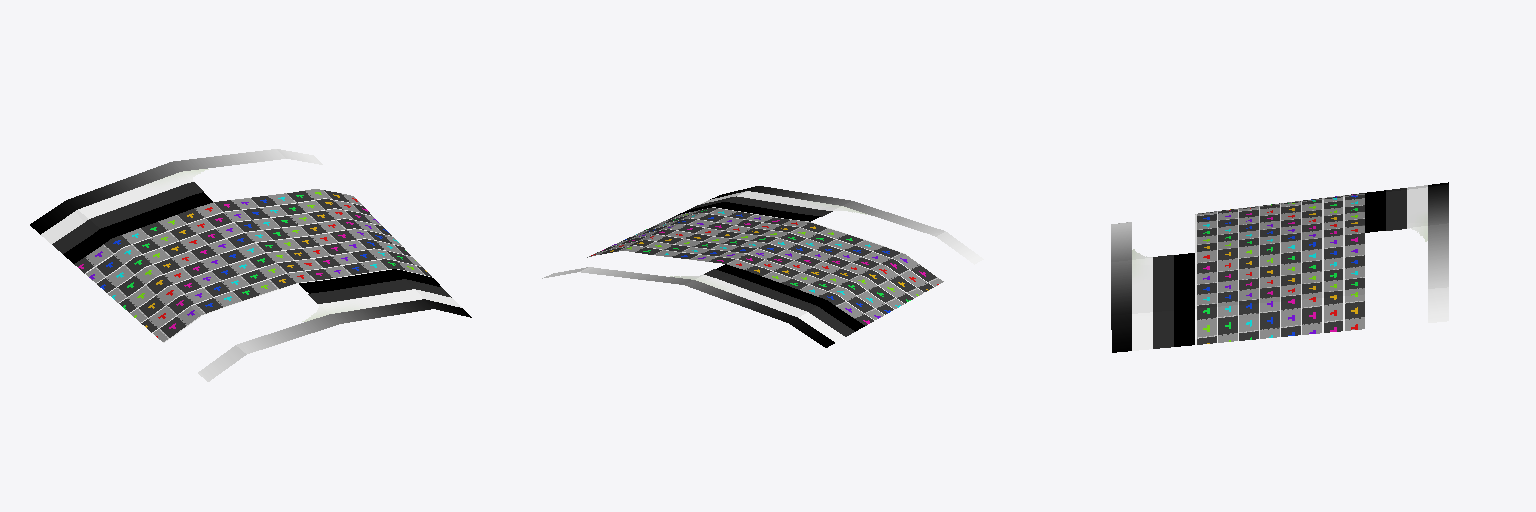
The picture shows the model from 3 angles: view 1: azimuth 30°, elevation 25°; view 2: azimuth 150°, elevation 25°; view 3: azimuth 270°, elevation 25°; orthographic projection.
Parts seen in each view (by area): view 1: status_status_mesh; view 2: status_status_mesh; view 3: status_status_mesh.
Boxes of the visible parts, <box> form: status_status_mesh: <box>30,149,471,381</box>; status_status_mesh: <box>542,186,983,347</box>; status_status_mesh: <box>1111,182,1448,352</box>.
Size of the model in its own units: 0.0287 by 0.0063 by 0.0294.
Materials: 1 (1 with a texture image).